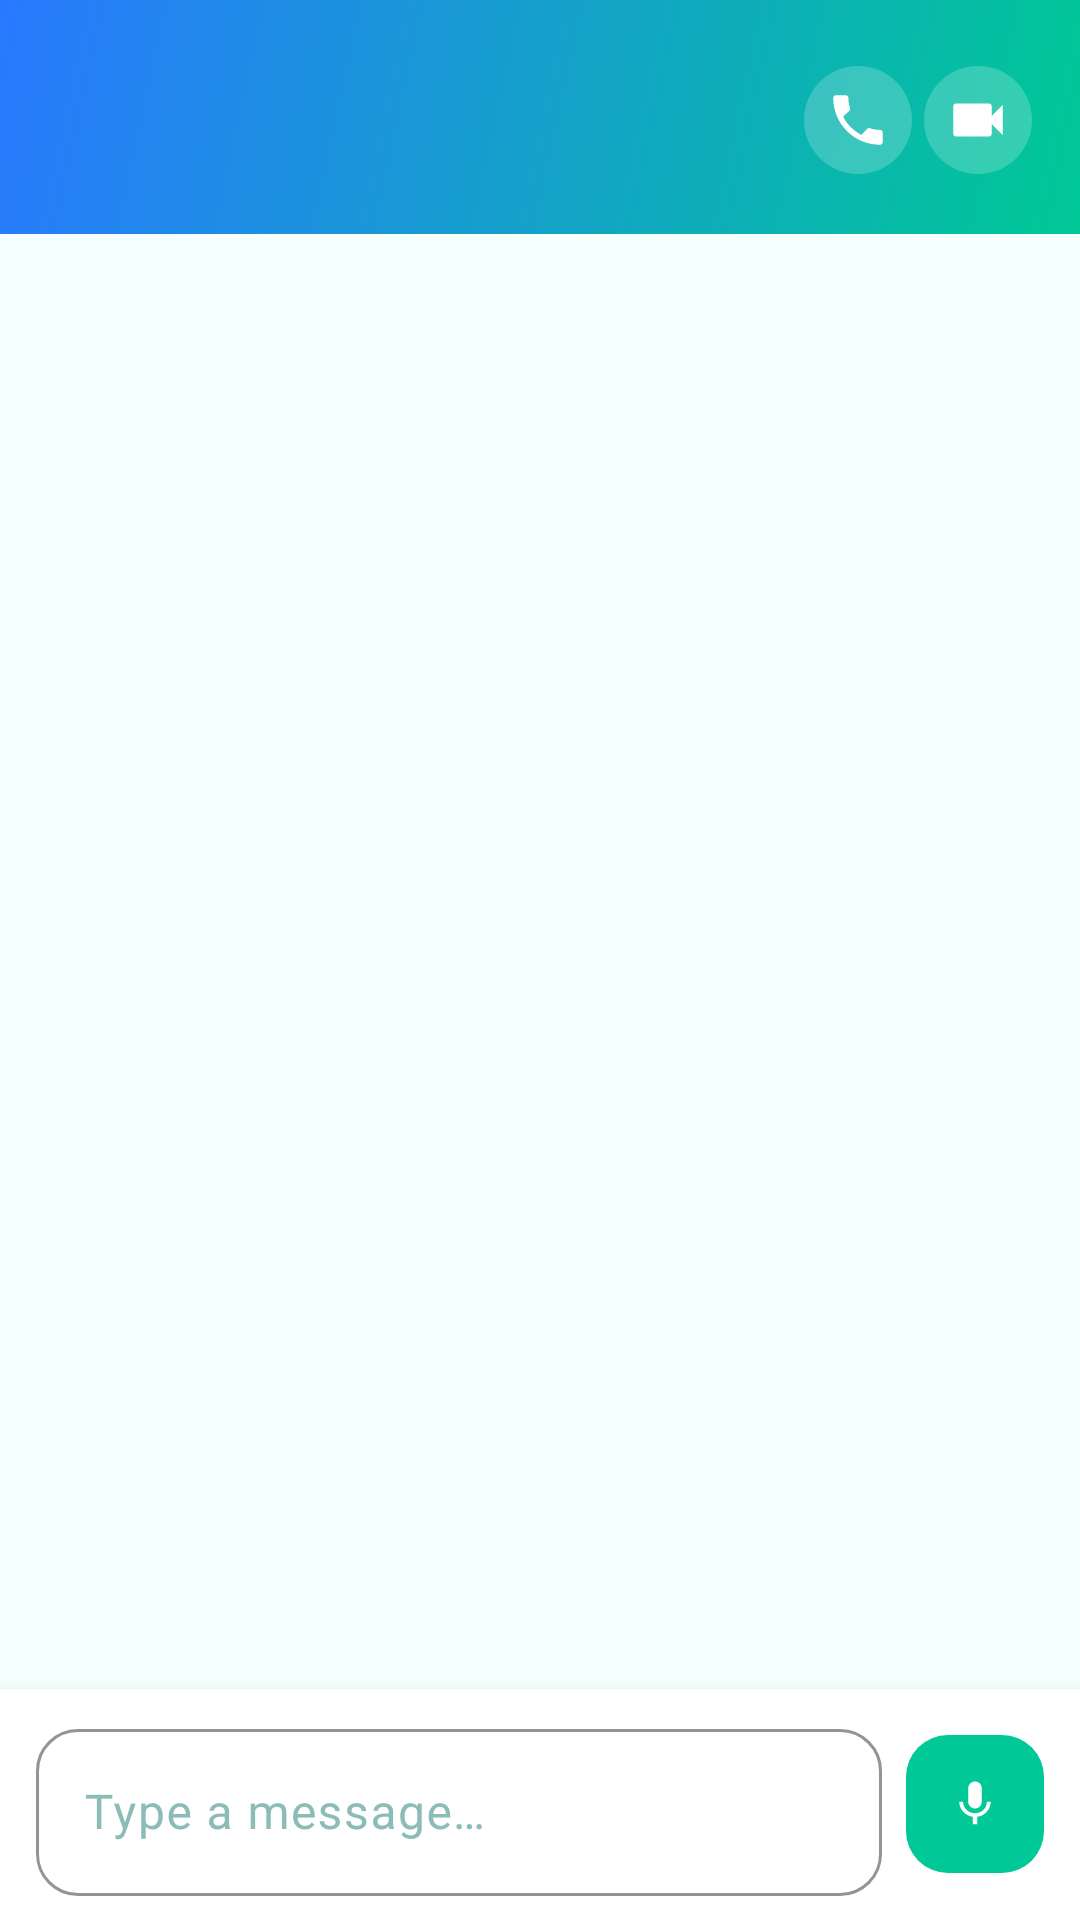

Where to tap for icons on this 1080px x 1920px app screen, as (x,y):
mic: (975,1804)
Video call: (978,120)
Voice call: (858,120)
